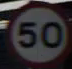Speed limit: (3, 4, 64, 59)
